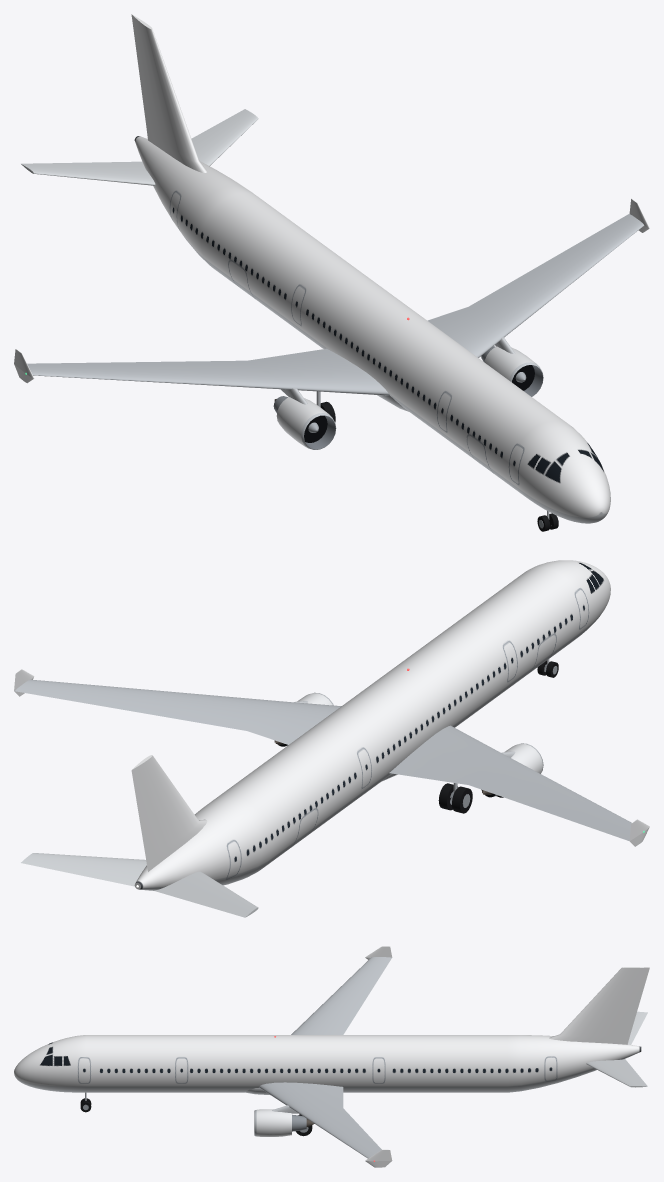
3 views of the same model, one above another, from view 1: azimuth 30°, elevation 25°; view 2: azimuth 150°, elevation 25°; view 3: azimuth 270°, elevation 25° (orthographic). The views are drawn at different scales.
Parts seen in each view (by area): view 1: body; view 2: body, gear; view 3: body.
Part boxes in pixels (left/top/right/bottom): body: left=14, top=14, right=649, bottom=523; body: left=14, top=560, right=649, bottom=917; gear: left=438, top=659, right=558, bottom=813; body: left=14, top=946, right=649, bottom=1167.
Bounding box in the file's own units: 34.34 × 11.16 × 45.13.
Materials: 19 (1 with a texture image).
